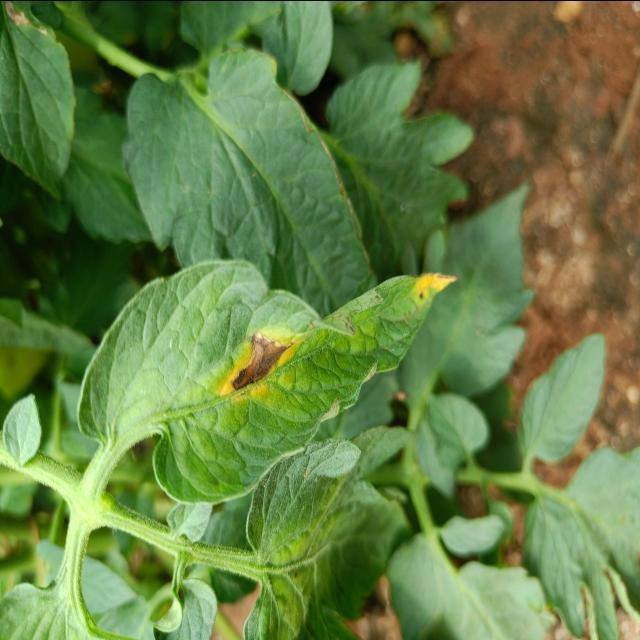Tomato mosaic virus leaf: (148, 253, 462, 510)
